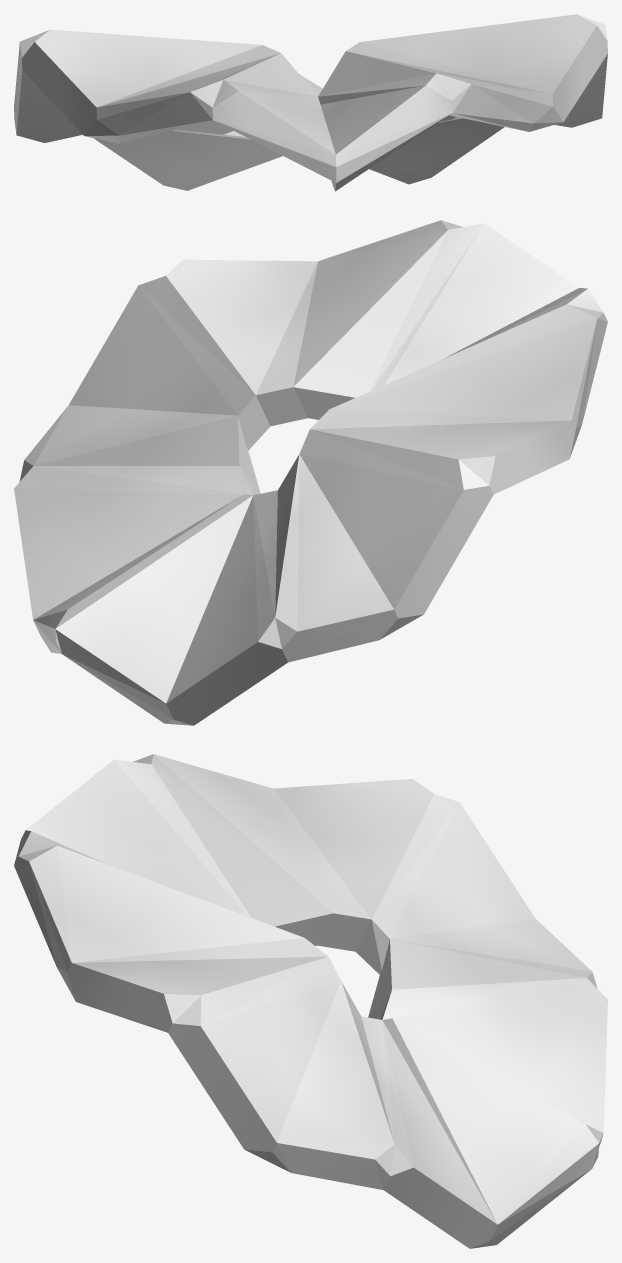
The model's file is CLOWN FRILL.fbx.
3 views of the same model, one above another, from view 1: azimuth 30°, elevation 25°; view 2: azimuth 150°, elevation 25°; view 3: azimuth 270°, elevation 25° (orthographic).
Parts seen in each view (by area): view 1: CLOWN_FRILL; view 2: CLOWN_FRILL; view 3: CLOWN_FRILL.
Part boxes in pixels (x1,y1,x2,y2): CLOWN_FRILL: (14,14,607,191); CLOWN_FRILL: (14,220,607,725); CLOWN_FRILL: (14,754,607,1248).
Bounding box in the file's own units: 36.31 × 21.26 × 36.47.
